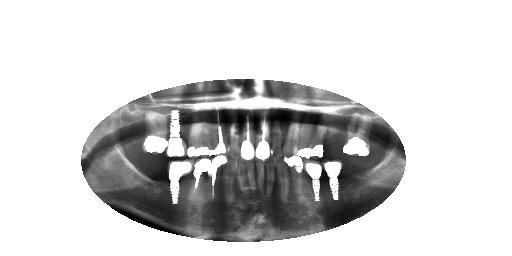Fillings: (343, 113, 372, 157), (145, 110, 170, 156), (284, 156, 306, 202), (185, 115, 202, 158), (313, 117, 327, 160), (300, 119, 315, 158), (201, 117, 215, 158)
Implant: (166, 159, 195, 204), (211, 153, 230, 201), (212, 108, 230, 158), (167, 109, 185, 158), (192, 157, 212, 201), (303, 160, 323, 202), (324, 160, 342, 200), (240, 114, 254, 159), (256, 115, 268, 160)
